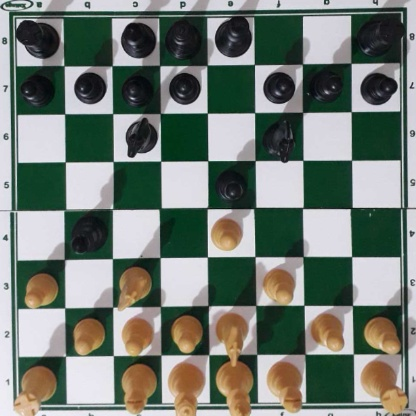black-bishop: (67, 214, 110, 254), (118, 19, 157, 56)
black-king: (215, 13, 253, 60)
black-knight: (262, 117, 295, 161), (124, 116, 156, 155)
black-pawn: (360, 69, 396, 105), (215, 166, 248, 202), (263, 67, 295, 102), (73, 68, 105, 103), (168, 69, 199, 105), (121, 71, 152, 106), (20, 72, 53, 104), (311, 68, 342, 102)
black-queen: (164, 16, 205, 61)
black-rook: (358, 10, 402, 55), (12, 16, 59, 58)
white-bishop: (118, 362, 157, 416), (266, 361, 304, 413)
white-king: (215, 357, 253, 414)
white-knight: (214, 311, 250, 367), (115, 263, 150, 309)
white-pawn: (363, 314, 400, 353), (309, 310, 345, 350), (261, 265, 296, 303), (21, 272, 58, 307), (70, 315, 104, 352), (169, 313, 202, 351), (120, 317, 153, 355), (209, 216, 242, 250)
white-queen: (166, 361, 207, 416)
white-rook: (361, 356, 404, 414), (15, 360, 55, 415)
